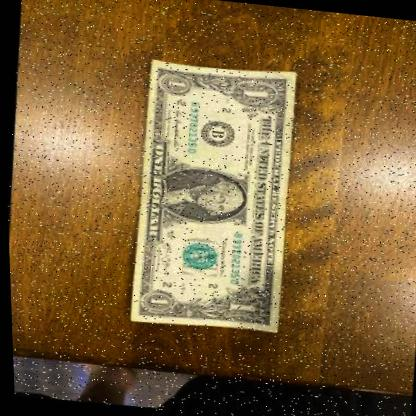one-front: (115, 55, 308, 336)
